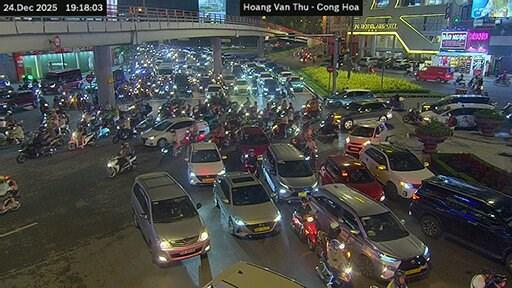motorbike: (316, 238, 351, 286), (291, 211, 316, 250), (16, 140, 54, 162), (0, 175, 19, 212), (106, 154, 134, 176), (470, 271, 505, 287), (67, 130, 95, 149), (314, 122, 338, 142), (112, 126, 137, 143), (208, 130, 230, 148), (303, 145, 316, 167), (403, 108, 422, 121), (160, 143, 172, 162), (387, 95, 403, 108), (499, 103, 511, 120), (245, 160, 257, 175), (493, 76, 509, 85), (96, 126, 108, 138), (454, 77, 466, 85)
